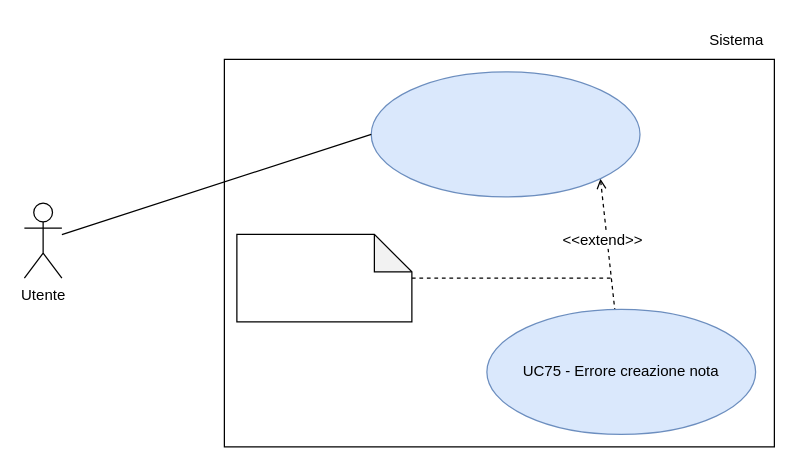
This 796x469 diagram has some shape labels left out. Here are the shapes that lost their labels. From the top down, the centre of each, then its label:
At pixel 505 134: "UC74.1 - Creazione nota vuota".
At pixel 324 277: "Condizione Il sistema non riesce a creare la nota".
